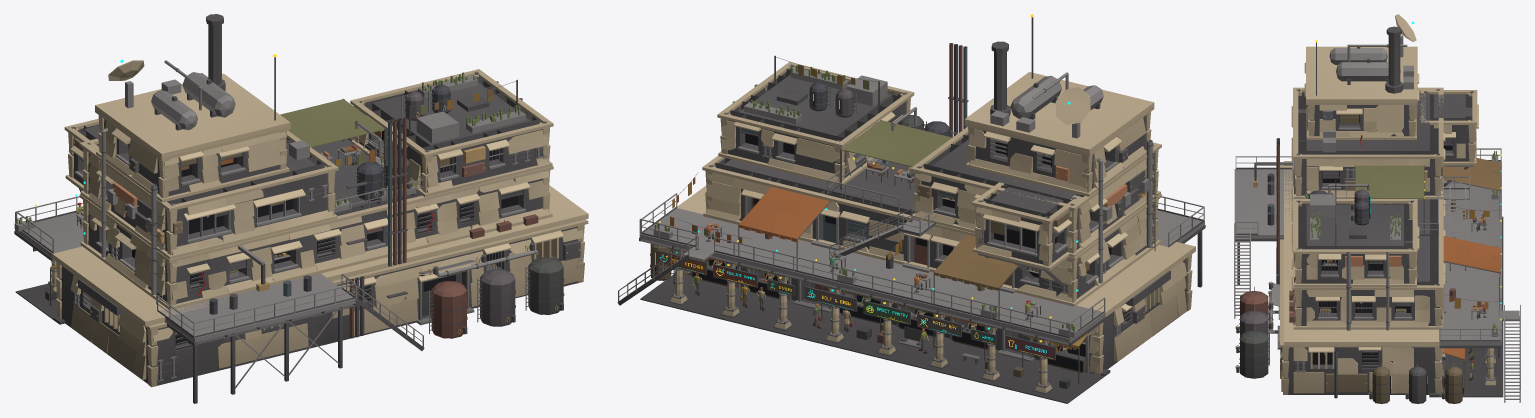
The model's file is market_habitat.glb.
3 views of the same model, side by side, from view 1: azimuth 30°, elevation 25°; view 2: azimuth 150°, elevation 25°; view 3: azimuth 270°, elevation 25° (orthographic). The views are drawn at different scales.
Parts seen in each view (by area): view 1: market_habitat; view 2: market_habitat; view 3: market_habitat.
Boxes of the visible parts, x1=… form: market_habitat: x1=14, y1=14, x2=588, y2=403; market_habitat: x1=617, y1=14, x2=1205, y2=403; market_habitat: x1=1234, y1=14, x2=1520, y2=403.
Bounding box in the file's own units: 34.43 × 20.71 × 22.09.
